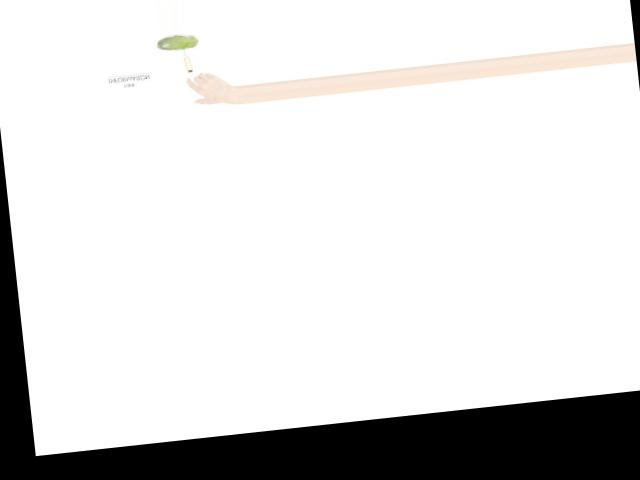cucumber: (156, 33, 199, 52)
